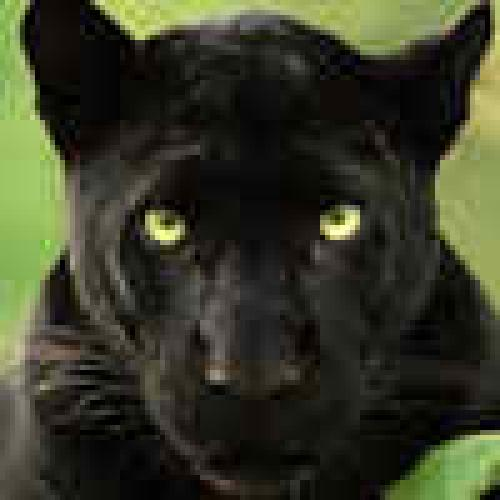panther-endangered: (20, 1, 486, 500)
